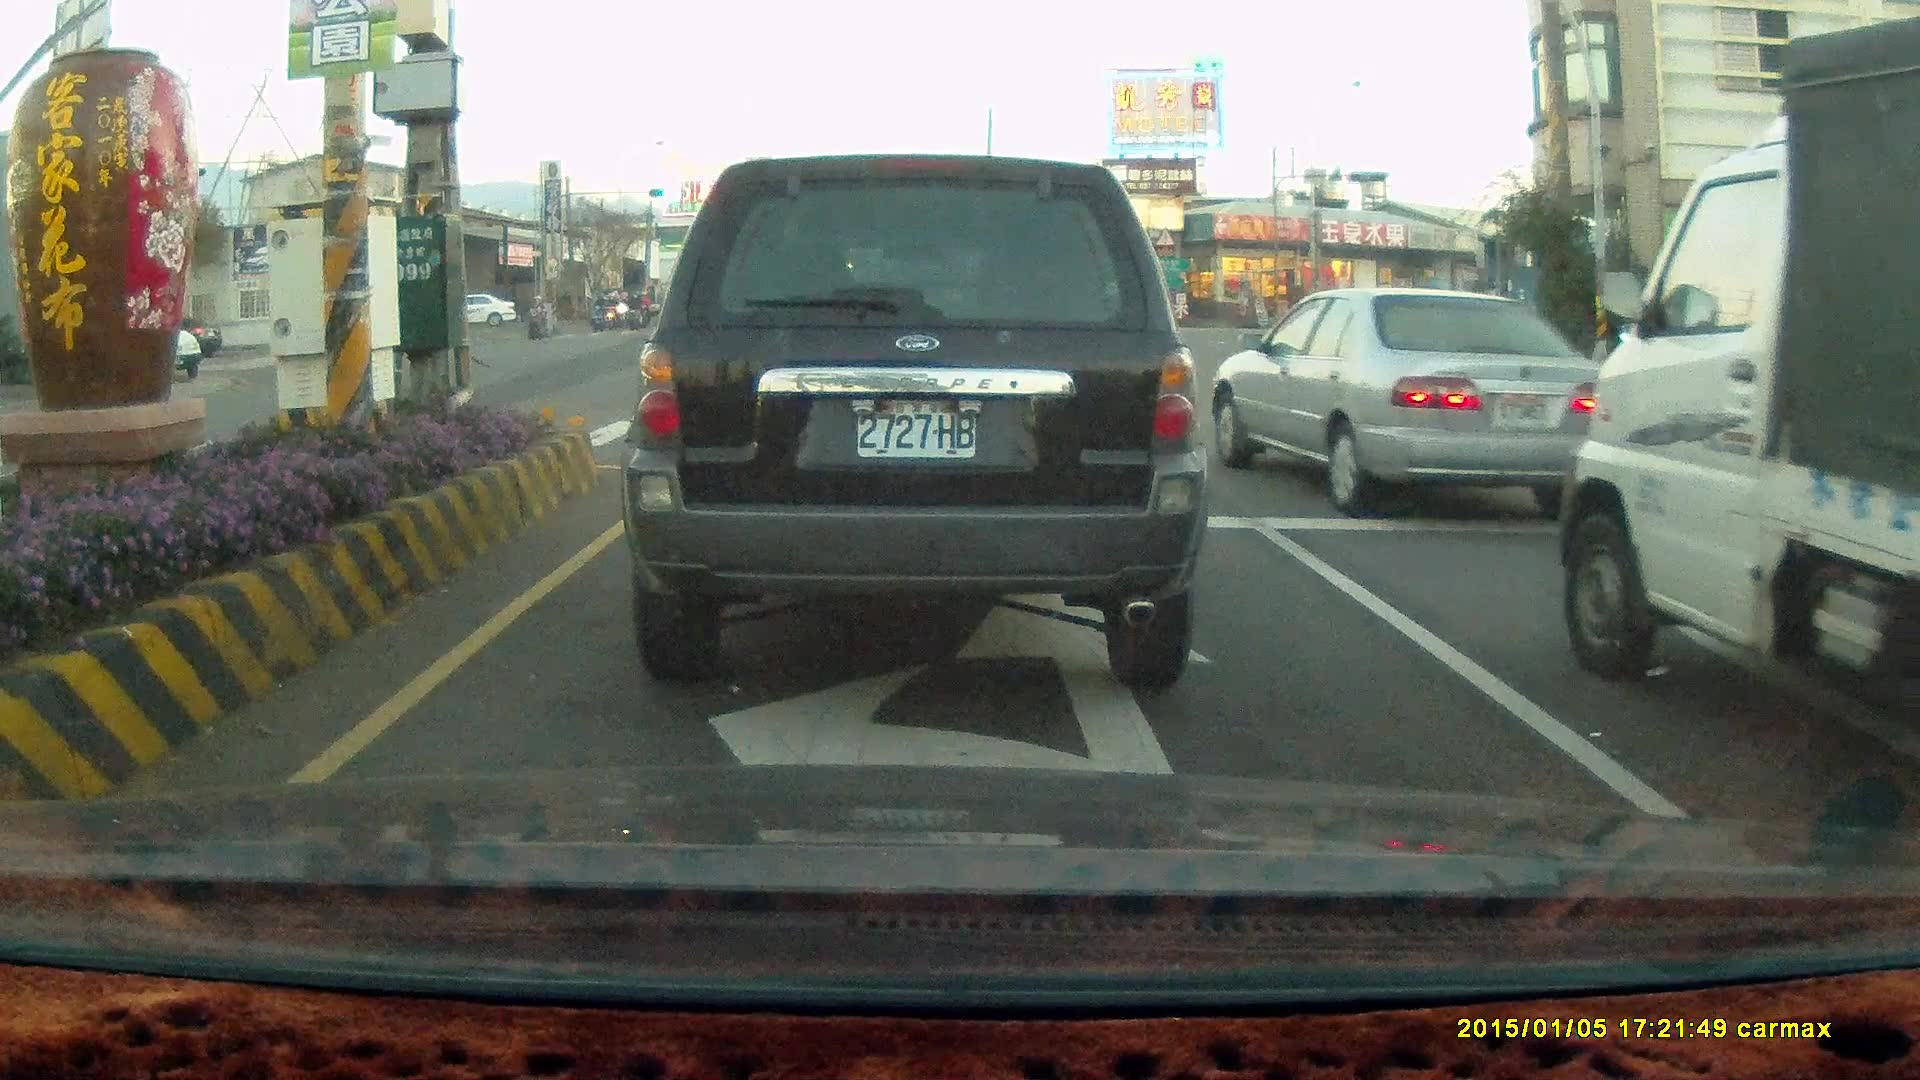rider: (519, 291, 550, 341), (623, 289, 647, 333), (587, 290, 608, 333), (591, 294, 613, 332)
vehicle: (618, 154, 1209, 693), (1555, 12, 1920, 816), (1206, 285, 1615, 517), (1204, 288, 1601, 518), (1674, 280, 1830, 371), (448, 295, 518, 328)
